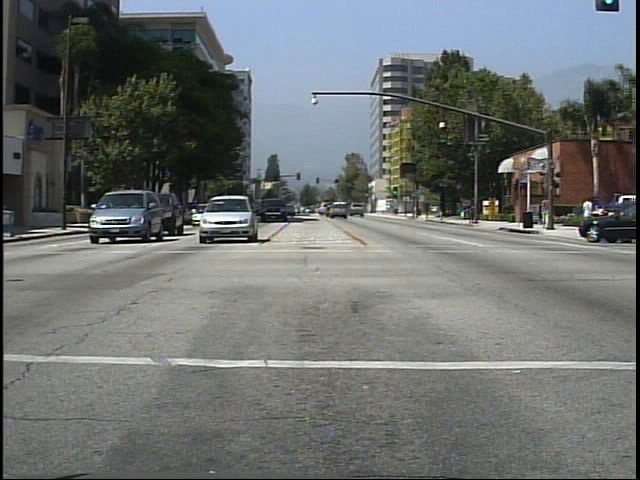person: (579, 193, 602, 237), (535, 193, 555, 235)
